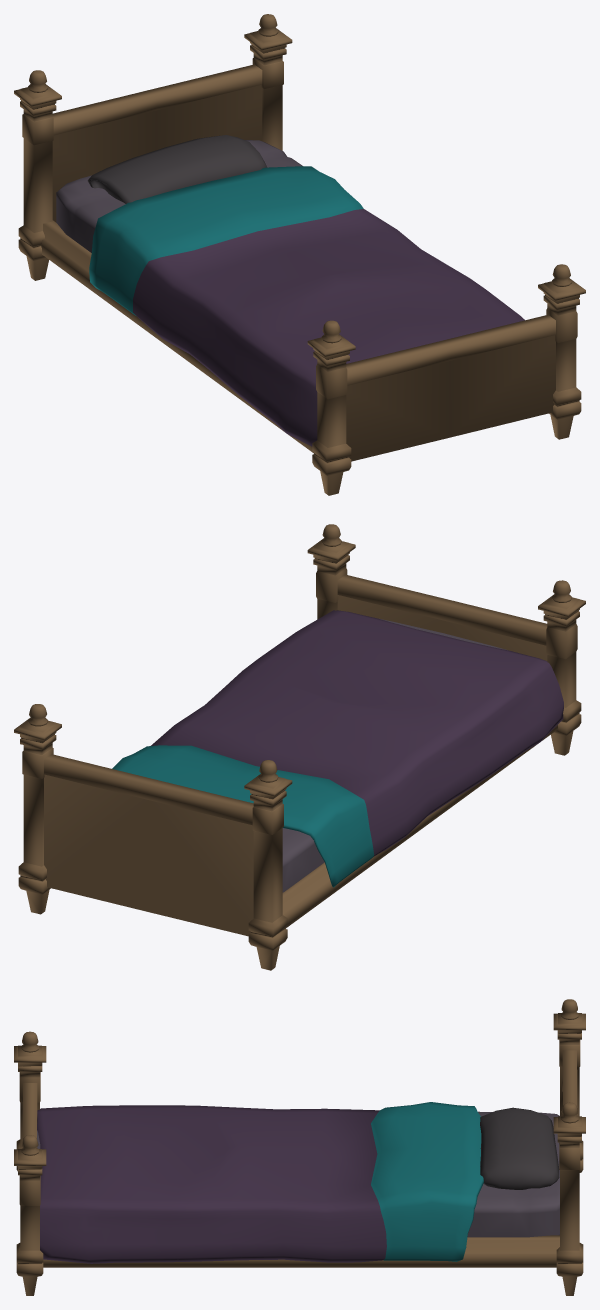
The model's file is Bed_smooth.glb.
The picture shows the model from 3 angles, top to bottom: view 1: azimuth 30°, elevation 25°; view 2: azimuth 150°, elevation 25°; view 3: azimuth 270°, elevation 25°; orthographic projection. The views are drawn at different scales.
Visible parts, largest first — view 1: Comforter, BedFrame, Pillow, Mattress; view 2: Comforter, BedFrame, Mattress; view 3: Comforter, BedFrame, Pillow, Mattress.
Boxes of the visible parts, <box> form: Comforter: <box>89,166,524,446</box>; BedFrame: <box>14,14,585,495</box>; Pillow: <box>87,135,267,203</box>; Mattress: <box>56,140,302,252</box>; Comforter: <box>112,610,563,887</box>; BedFrame: <box>14,524,585,970</box>; Mattress: <box>282,618,507,892</box>; Comforter: <box>37,1102,483,1263</box>; BedFrame: <box>14,999,585,1295</box>; Pillow: <box>480,1107,559,1189</box>; Mattress: <box>37,1111,559,1237</box>.
Size of the model in its own units: 18.48 by 13.97 by 38.19.
